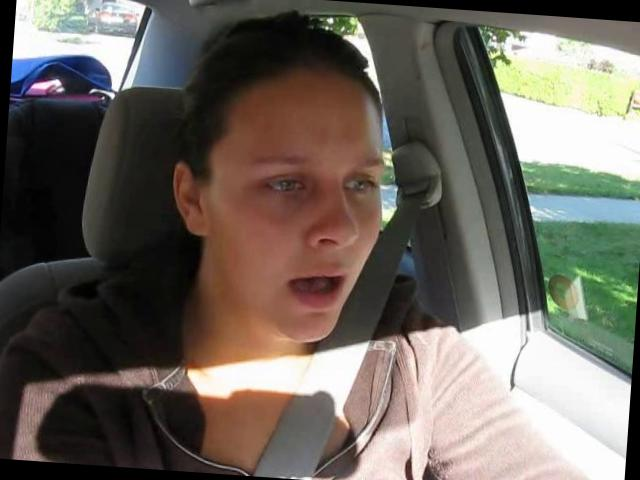eye_open: (254, 168, 312, 203), (342, 170, 380, 198)
face: (209, 132, 391, 350)
mouth_open: (276, 258, 354, 316)
